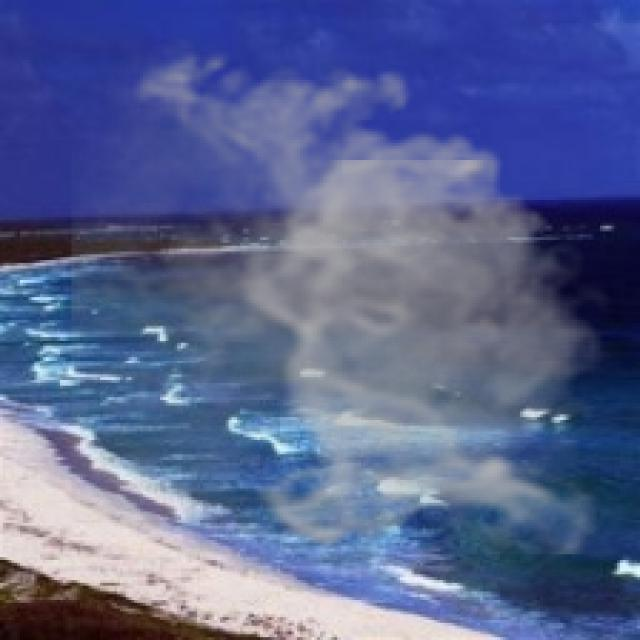smoke: (71, 37, 623, 554)
